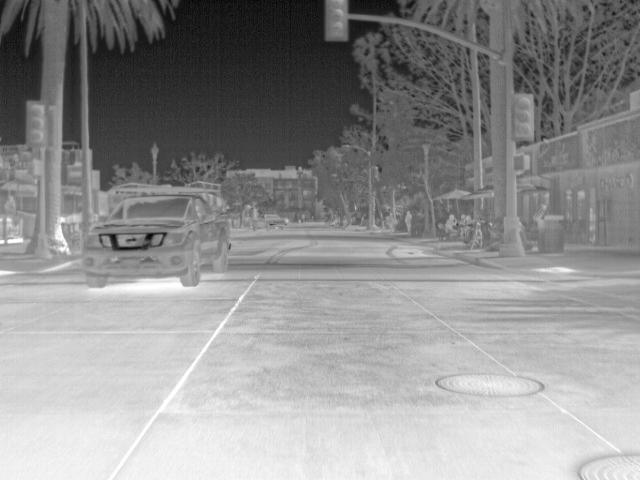car: (81, 195, 230, 288), (247, 211, 288, 231)
person: (586, 206, 598, 246), (532, 202, 546, 230), (443, 213, 458, 237), (2, 192, 17, 215), (383, 209, 396, 232), (403, 209, 413, 233), (457, 213, 467, 225), (465, 213, 475, 225)
